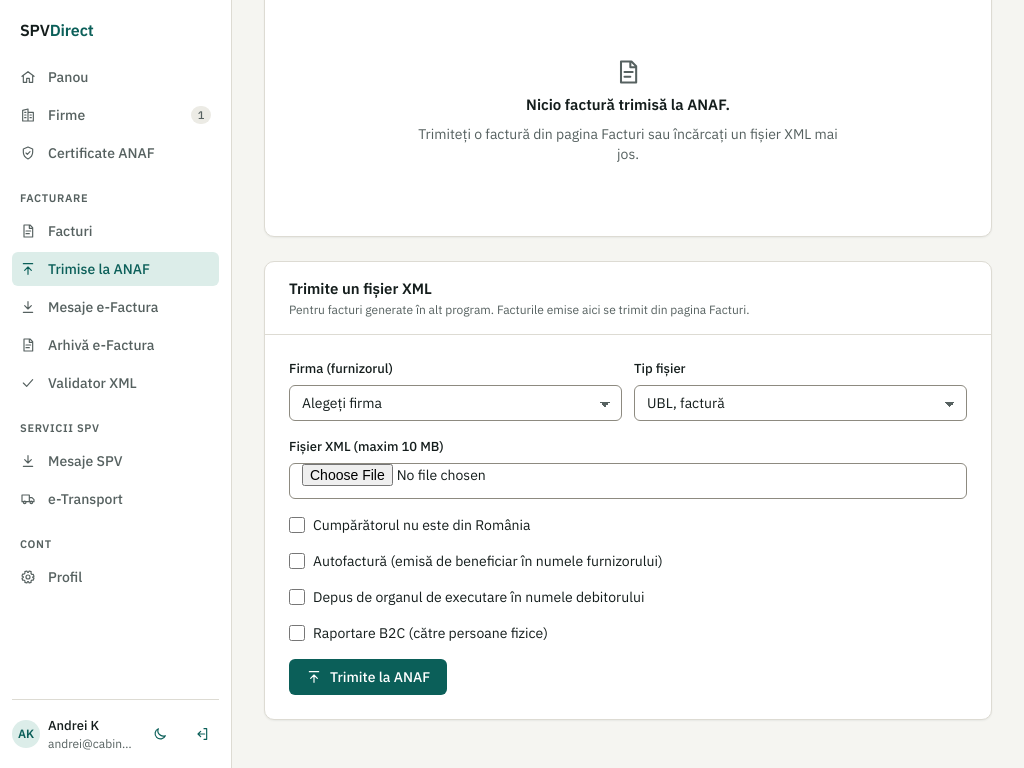
Test: e-Factura: încărcări › asks for a company and a file before posting
(page scrolled)
Click the button "Trimite la ANAF" at [368, 677], box [289,659,447,695]
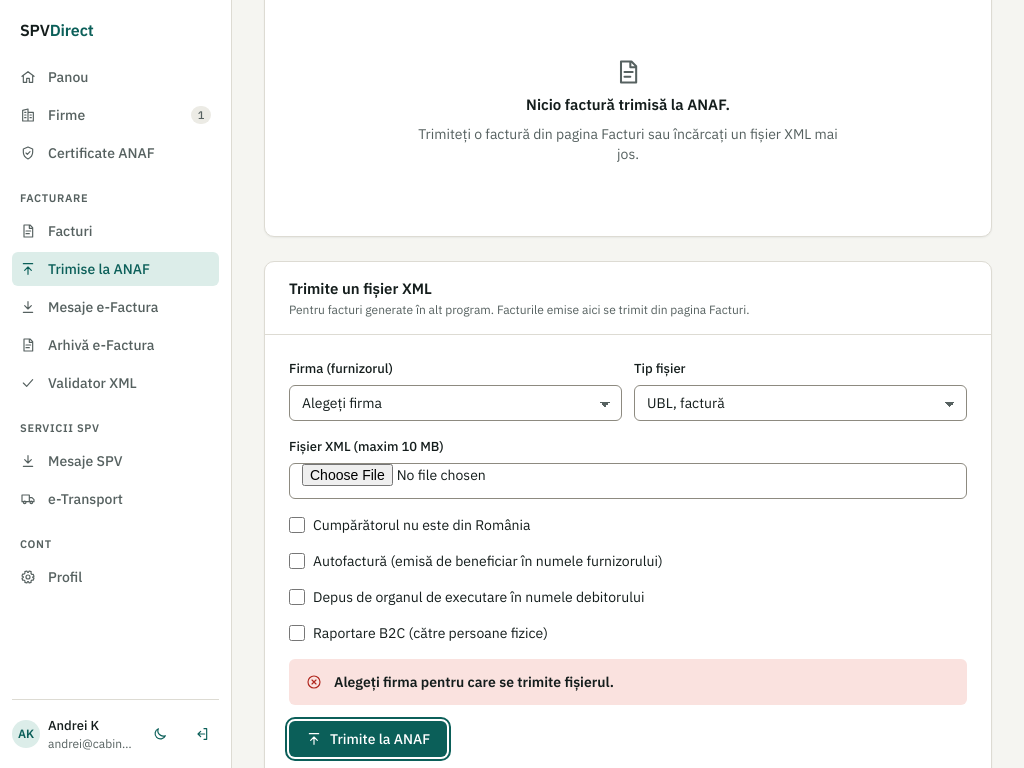
Now the text "Alegeți firma pentru care se trimite fișierul." is shown, box [334,672,614,692]
Select "Agro Vest SRL" in the dropdown labelled "Firma (furnizorul)" at [456, 403], box [289,385,622,421]
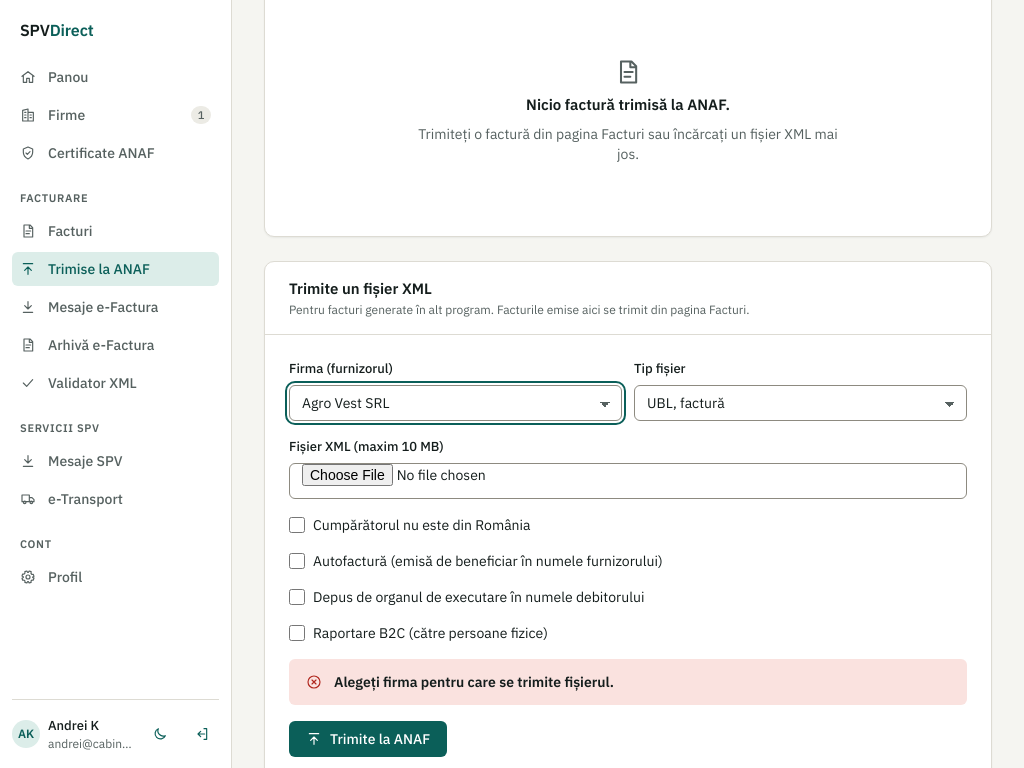
Click the button "Trimite la ANAF" at [368, 739], box [289,721,447,757]
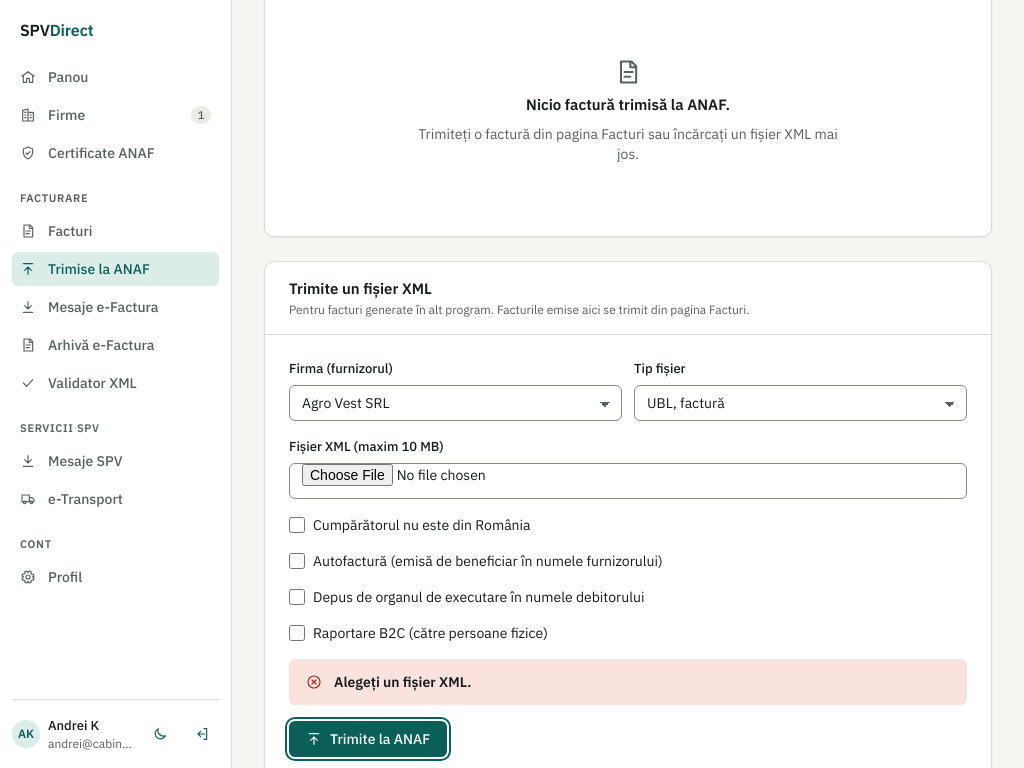
Now the text "Alegeți un fișier XML." is shown, box [334,672,471,692]
